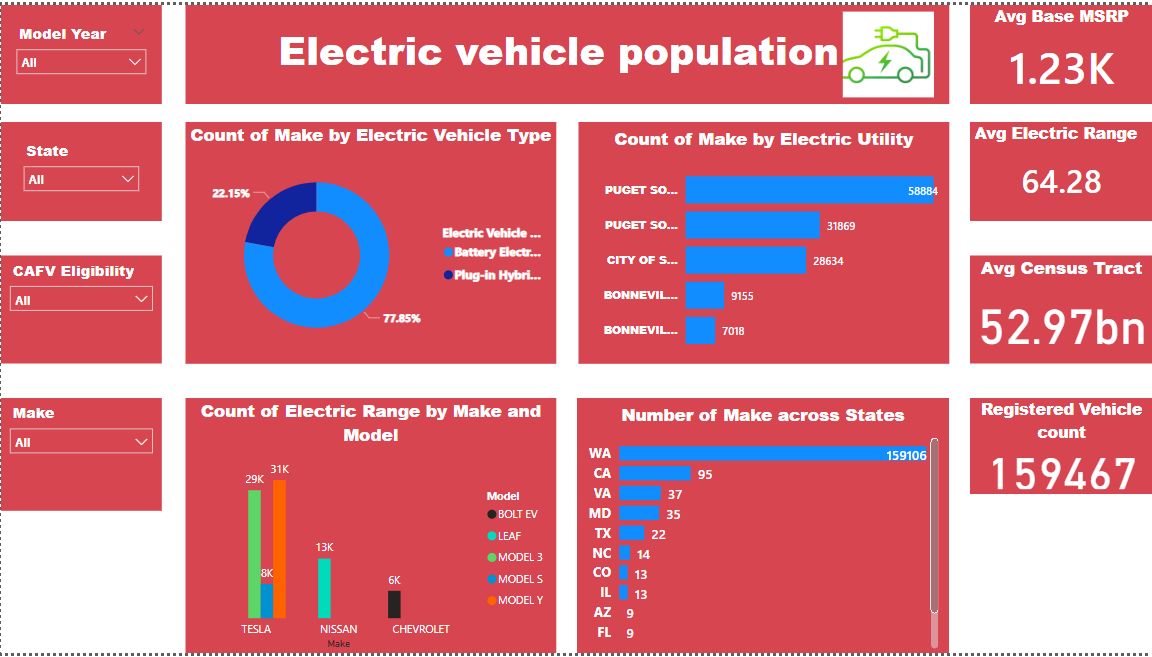

The dashboard page shown, as its layout file describes it:
{"tool":"powerbi","page":{"name":"Page 1","canvas":[1280,720],"ordinal":0},"visuals":[{"type":"slicer","fields":{"Values":["Electric_Vehicle_Population_Data.Model Year"]},"box":[0,0,178.3,110],"z":0},{"type":"textbox","box":[0,253,280,150],"z":1},{"type":"textbox","box":[205,0,848.3,110],"z":3},{"type":"clusteredColumnChart","fields":{"Category":["Electric_Vehicle_Population_Data.Make"],"Y":["CountNonNull(Electric_Vehicle_Population_Data.Electric Range)"],"Series":["Electric_Vehicle_Population_Data.Model"]},"box":[205,436.7,411.7,283.3],"z":4},{"type":"barChart","fields":{"Category":["Electric_Vehicle_Population_Data.Electric Utility"],"Y":["CountNonNull(Electric_Vehicle_Population_Data.Make)"]},"box":[641.7,130,411.7,268.3],"z":5},{"type":"barChart","title":"Number of Make across States","fields":{"Category":["Electric_Vehicle_Population_Data.State"],"Y":["CountNonNull(Electric_Vehicle_Population_Data.Make)"]},"box":[640,436.7,413.3,283.3],"z":6},{"type":"slicer","fields":{"Values":["Electric_Vehicle_Population_Data.State"]},"box":[0,130,178.3,110],"z":7},{"type":"card","title":"Avg Base MSRP","fields":{"Values":["Avg(Electric_Vehicle_Population_Data.Base MSRP)"]},"box":[1076.7,0,203.3,110],"z":8},{"type":"card","title":"Avg Electric Range ","fields":{"Values":["Avg(Electric_Vehicle_Population_Data.Electric Range)"]},"box":[1076.7,130,203.3,110],"z":9},{"type":"donutChart","fields":{"Category":["Electric_Vehicle_Population_Data.Electric Vehicle Type"],"Y":["CountNonNull(Electric_Vehicle_Population_Data.Make)"]},"box":[205,130,411.7,268.3],"z":10},{"type":"slicer","fields":{"Values":["Electric_Vehicle_Population_Data.Clean Alternative Fuel Vehicle (CAFV) Eligibility"]},"box":[0,278.3,178.3,120],"z":11},{"type":"card","title":"Avg Census Tract","fields":{"Values":["Avg(Electric_Vehicle_Population_Data.2020 Census Tract)"]},"box":[1076.7,278.3,203.3,120],"z":12},{"type":"slicer","fields":{"Values":["Electric_Vehicle_Population_Data.Make"]},"box":[0,436.7,178.3,125],"z":13},{"type":"image","box":[930,0,111.7,110],"z":14},{"type":"card","title":"Registered Vehicle count","fields":{"Values":["CountNonNull(Electric_Vehicle_Population_Data.DOL Vehicle ID)"]},"box":[1076.7,436.7,203.3,106.7],"z":16}]}

Visuals, with their boxes in screenshot pixels (x1, y1, x2, y2), scaled from the page's 1280x720 canvas onto the 1152x657 screenshot:
slicer - Electric_Vehicle_Population_Data.Model Year: region(0, 0, 160, 100)
textbox: region(0, 231, 252, 368)
textbox: region(184, 0, 948, 100)
clusteredColumnChart - Electric_Vehicle_Population_Data.Make x CountNonNull(Electric_Vehicle_Population_Data.Electric Range): region(184, 398, 555, 656)
barChart - Electric_Vehicle_Population_Data.Electric Utility x CountNonNull(Electric_Vehicle_Population_Data.Make): region(578, 119, 948, 363)
"Number of Make across States" barChart: region(576, 398, 948, 656)
slicer - Electric_Vehicle_Population_Data.State: region(0, 119, 160, 219)
"Avg Base MSRP" card: region(969, 0, 1151, 100)
"Avg Electric Range " card: region(969, 119, 1151, 219)
donutChart - Electric_Vehicle_Population_Data.Electric Vehicle Type x CountNonNull(Electric_Vehicle_Population_Data.Make): region(184, 119, 555, 363)
slicer - Electric_Vehicle_Population_Data.Clean Alternative Fuel Vehicle (CAFV) Eligibility: region(0, 254, 160, 363)
"Avg Census Tract" card: region(969, 254, 1151, 363)
slicer - Electric_Vehicle_Population_Data.Make: region(0, 398, 160, 513)
image: region(837, 0, 938, 100)
"Registered Vehicle count" card: region(969, 398, 1151, 496)
